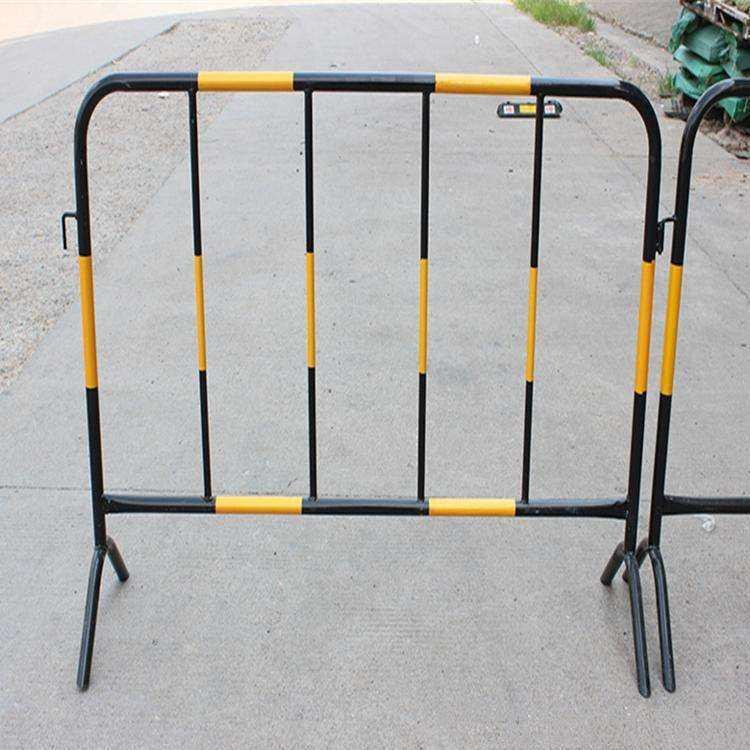sign: (44, 64, 750, 697)
